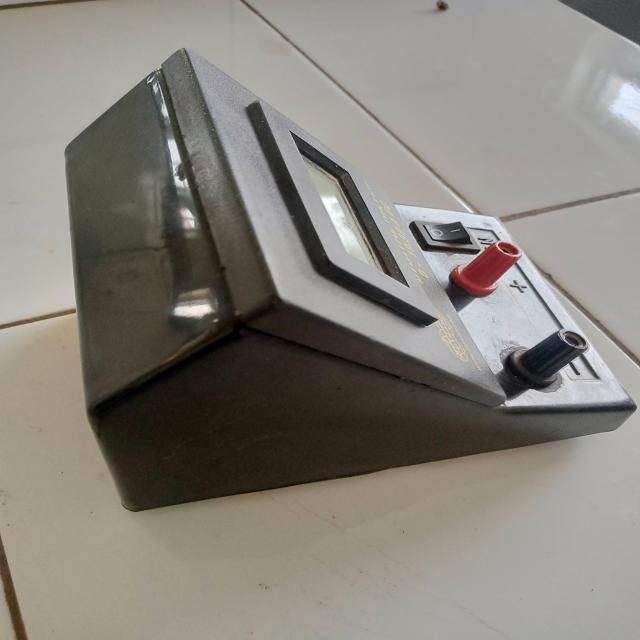Digital Ammeter: (20, 36, 637, 515)
